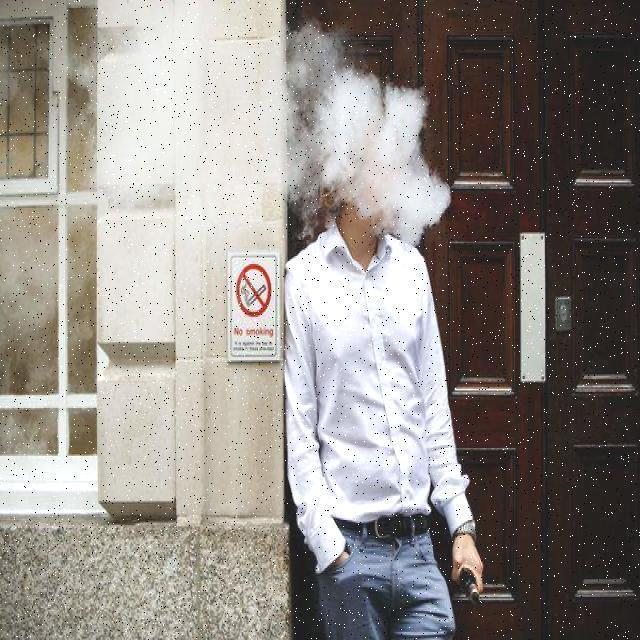smoke: (251, 22, 452, 251)
